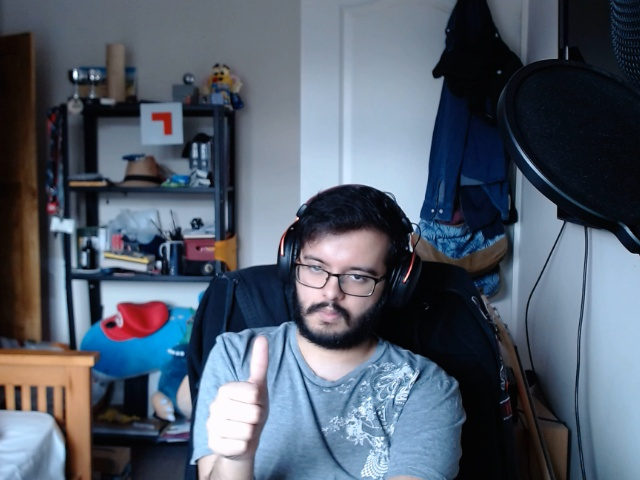Thumbs up: (191, 330, 286, 465)
